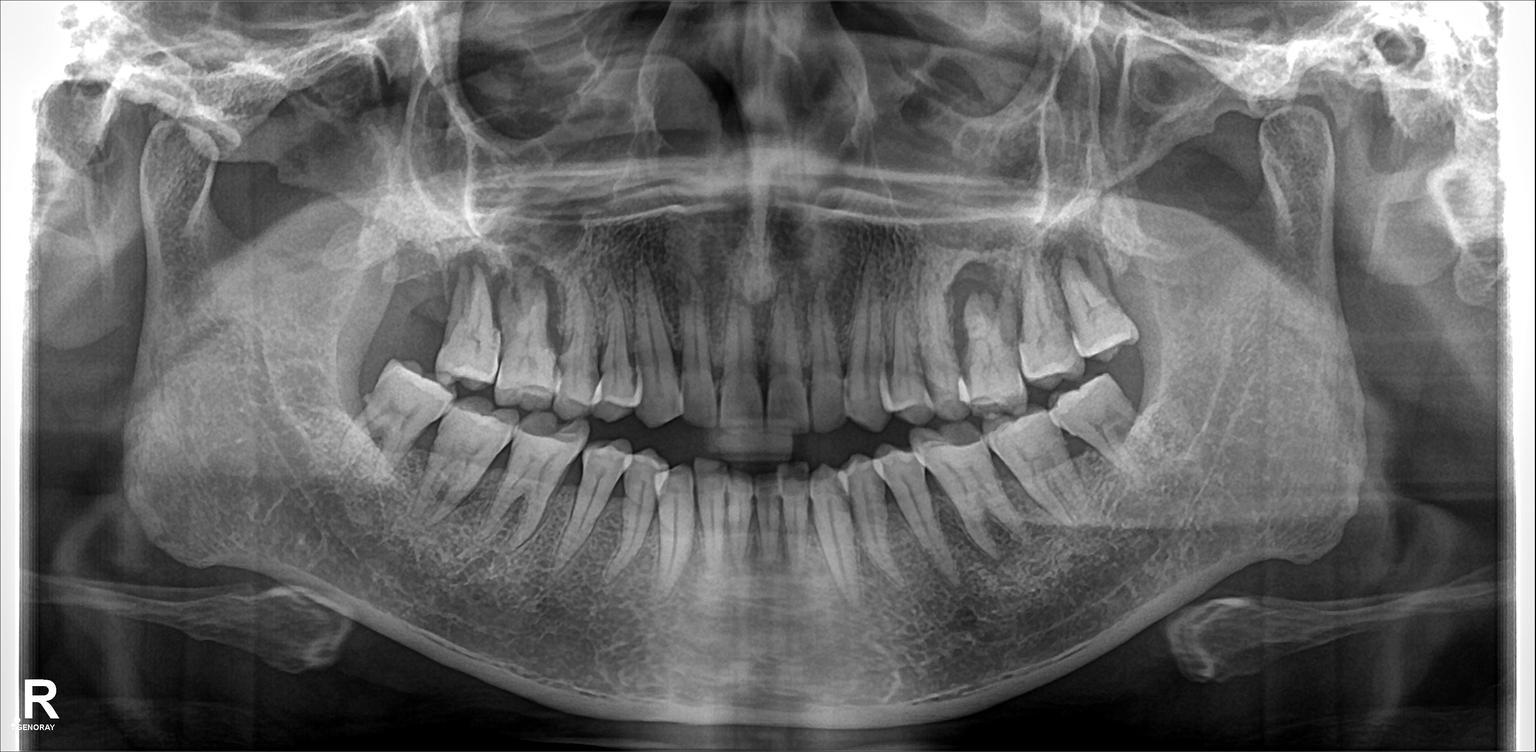Impacted Third Molar: (354, 354, 450, 460)
Missing Tooth: (385, 248, 417, 349), (425, 242, 447, 350)
